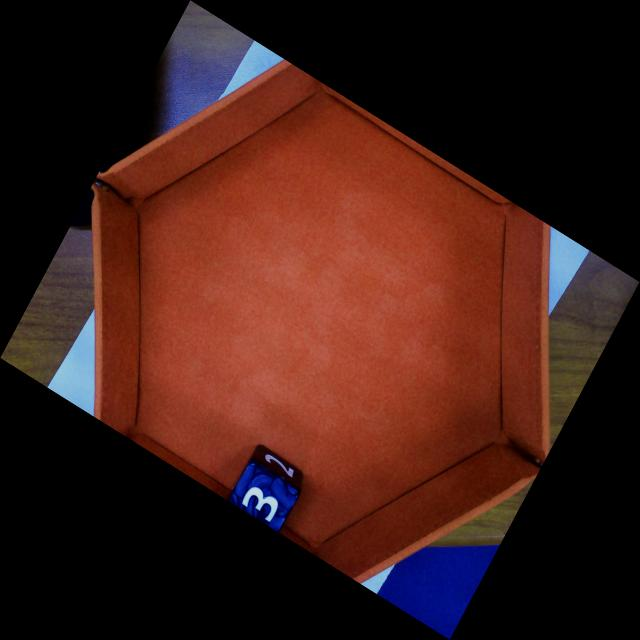dice: (226, 457, 302, 534)
